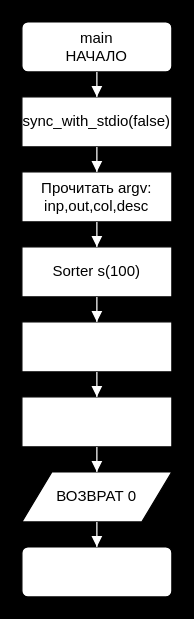
This 194x619 diagram has some shape labels left out. Each missing label, with the centre of its shape:
s.run(inp, out, col): [96,346]
Вывести статистику: [96,421]
КОНЕЦ main: [96,571]
